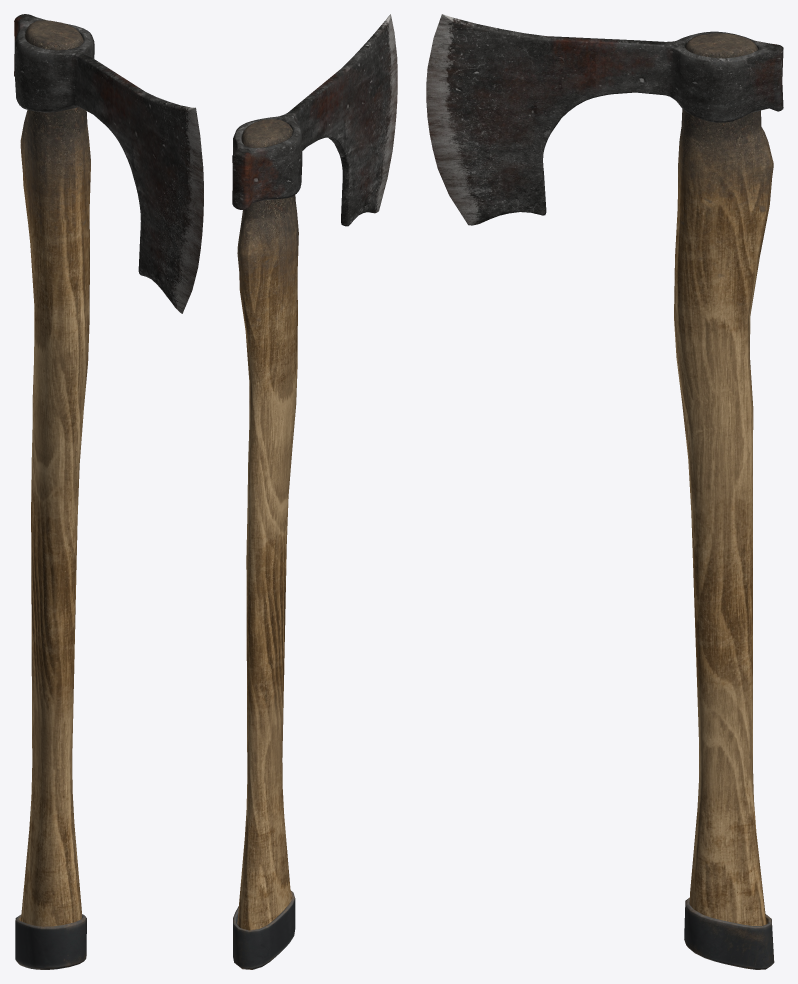
File: wooden_axe.glb
3 views of the same model, side by side, from view 1: azimuth 30°, elevation 25°; view 2: azimuth 150°, elevation 25°; view 3: azimuth 270°, elevation 25° (orthographic). The views are drawn at different scales.
Parts seen in each view (by area): view 1: wooden_axe; view 2: wooden_axe; view 3: wooden_axe.
Part boxes in pixels (x1,y1,x2,y2): wooden_axe: [14, 14, 203, 969]; wooden_axe: [232, 14, 397, 969]; wooden_axe: [426, 14, 783, 969].
Size of the model in its own units: 0.0472 by 0.6303 by 0.2143.
Materials: 1 (1 with a texture image).
